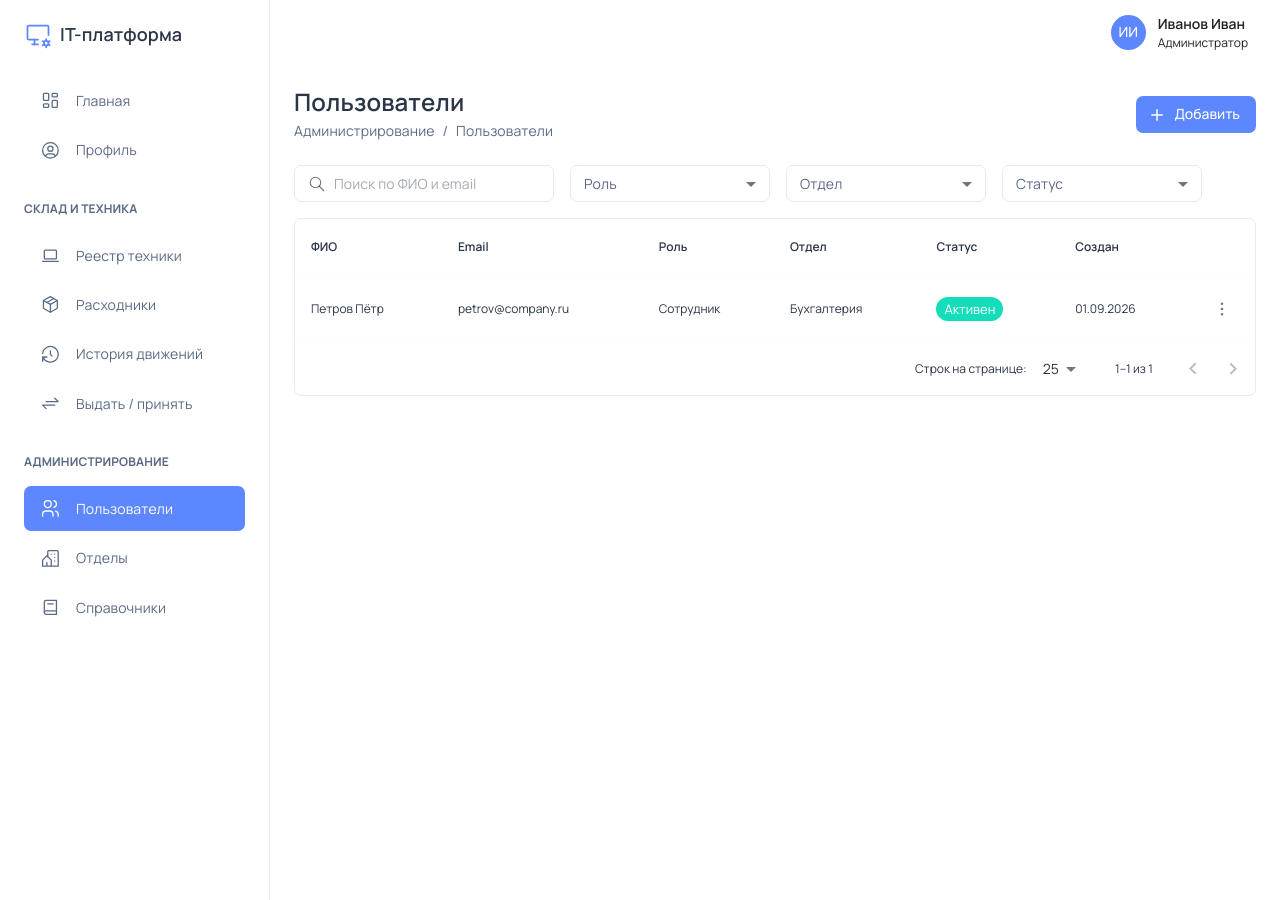
it: редактирование отправляет только изменённые поля
Step 1. Click the button named "Действия" → x=1222, y=310, box [1205,292,1239,326]
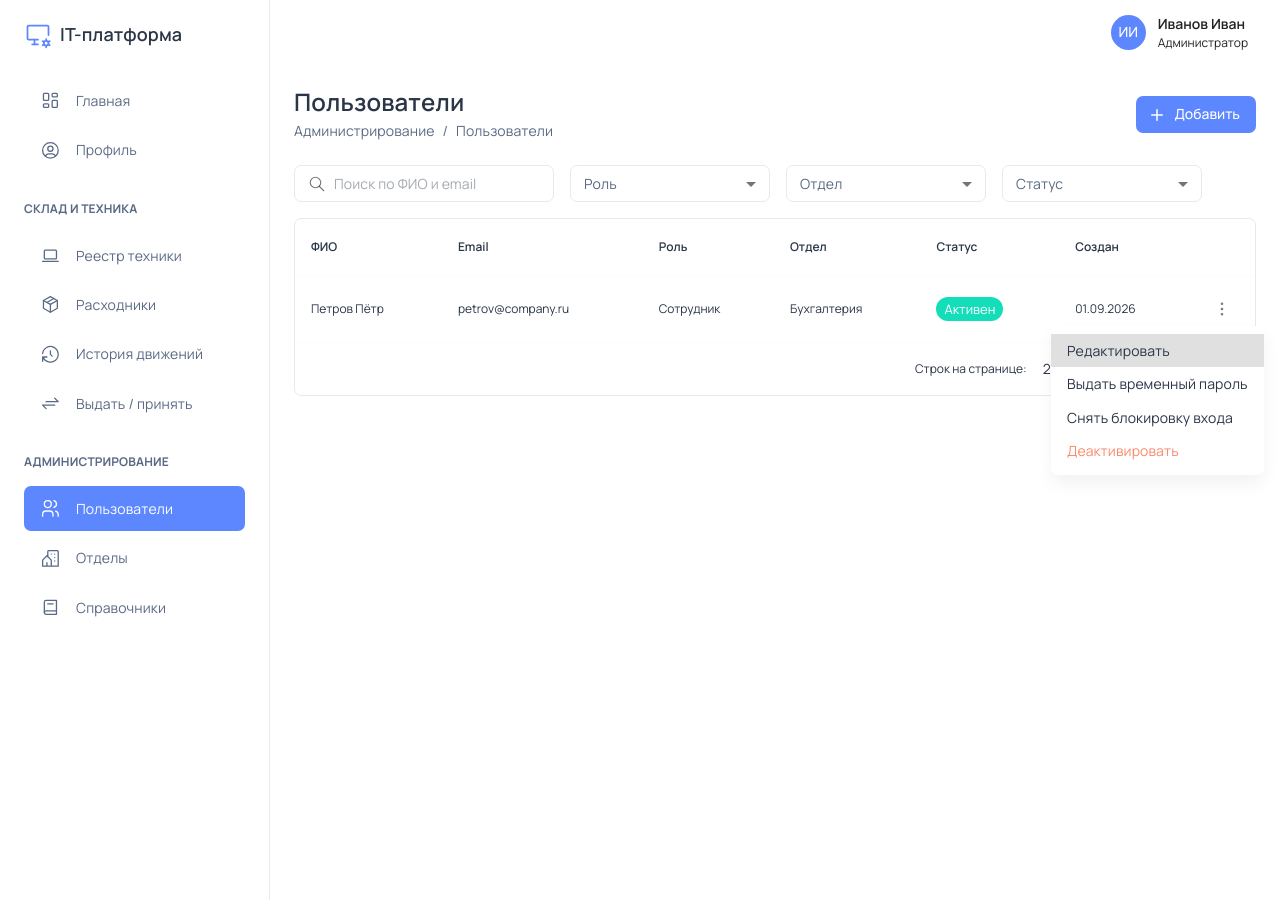
Step 2. Click the menu item "Редактировать" → x=1157, y=351, box [1051,334,1264,367]
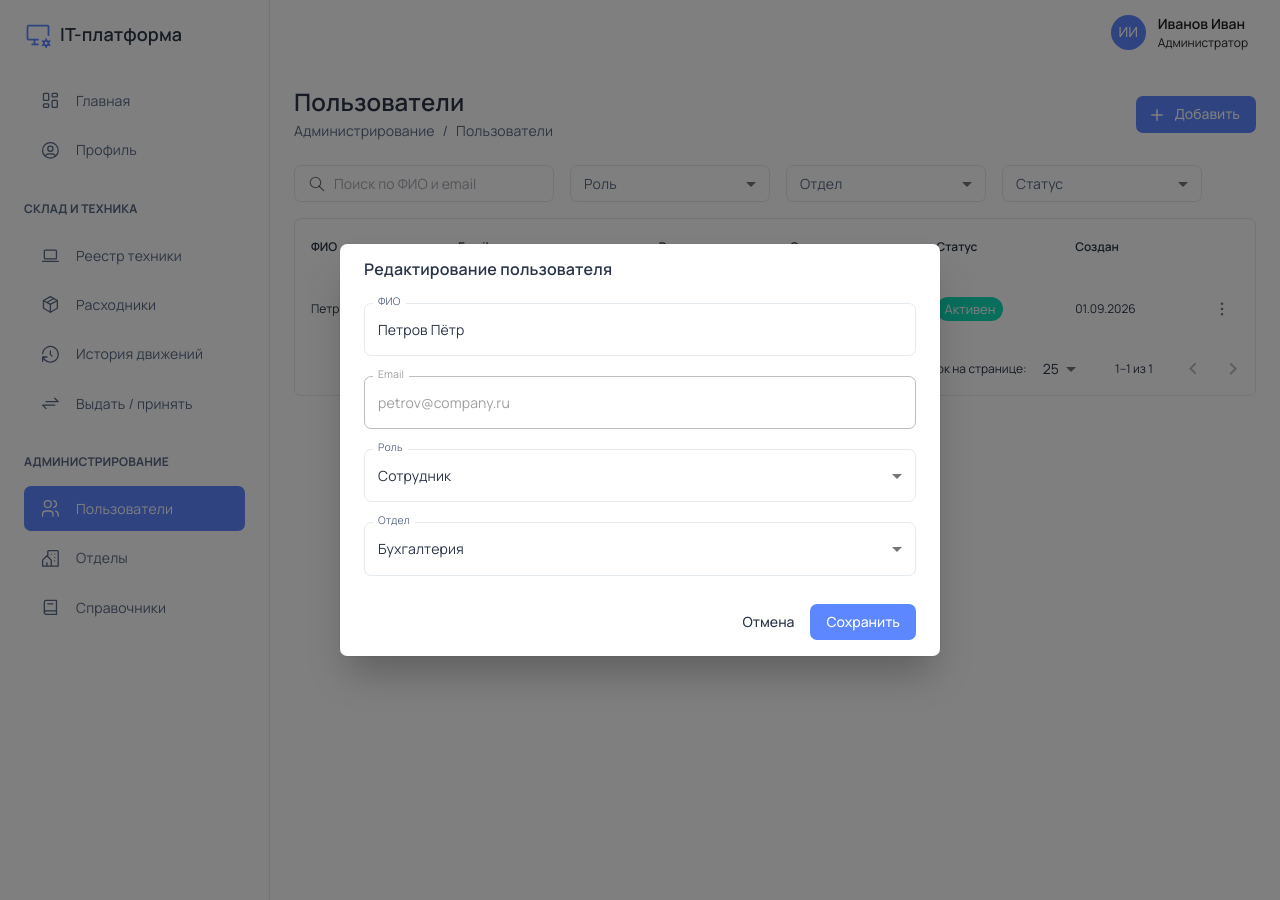
Step 3. Click the dropdown named "Роль" → x=415, y=475, box [378,466,451,485]
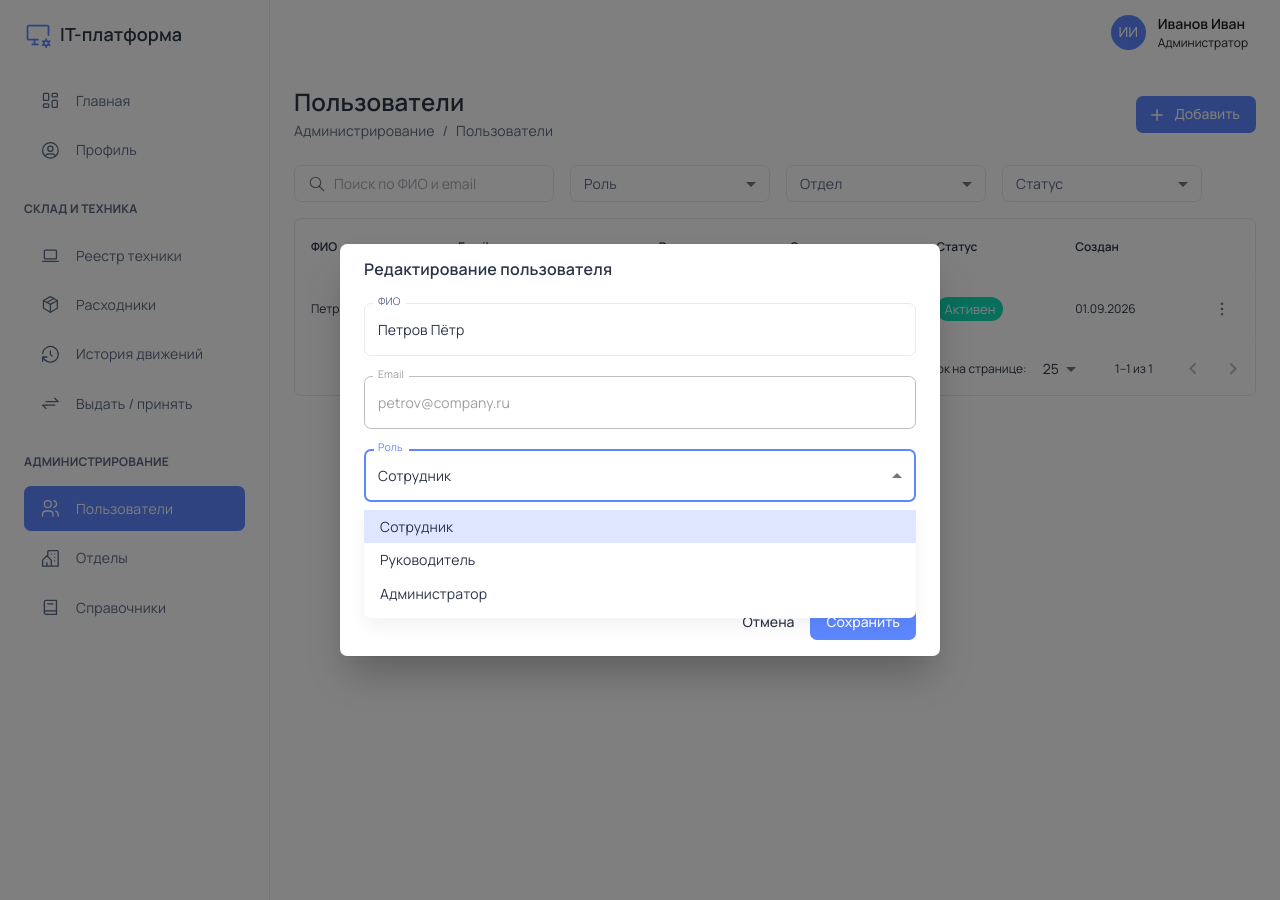
Step 4. Click the option "Руководитель" → x=428, y=560, box [380,550,476,569]
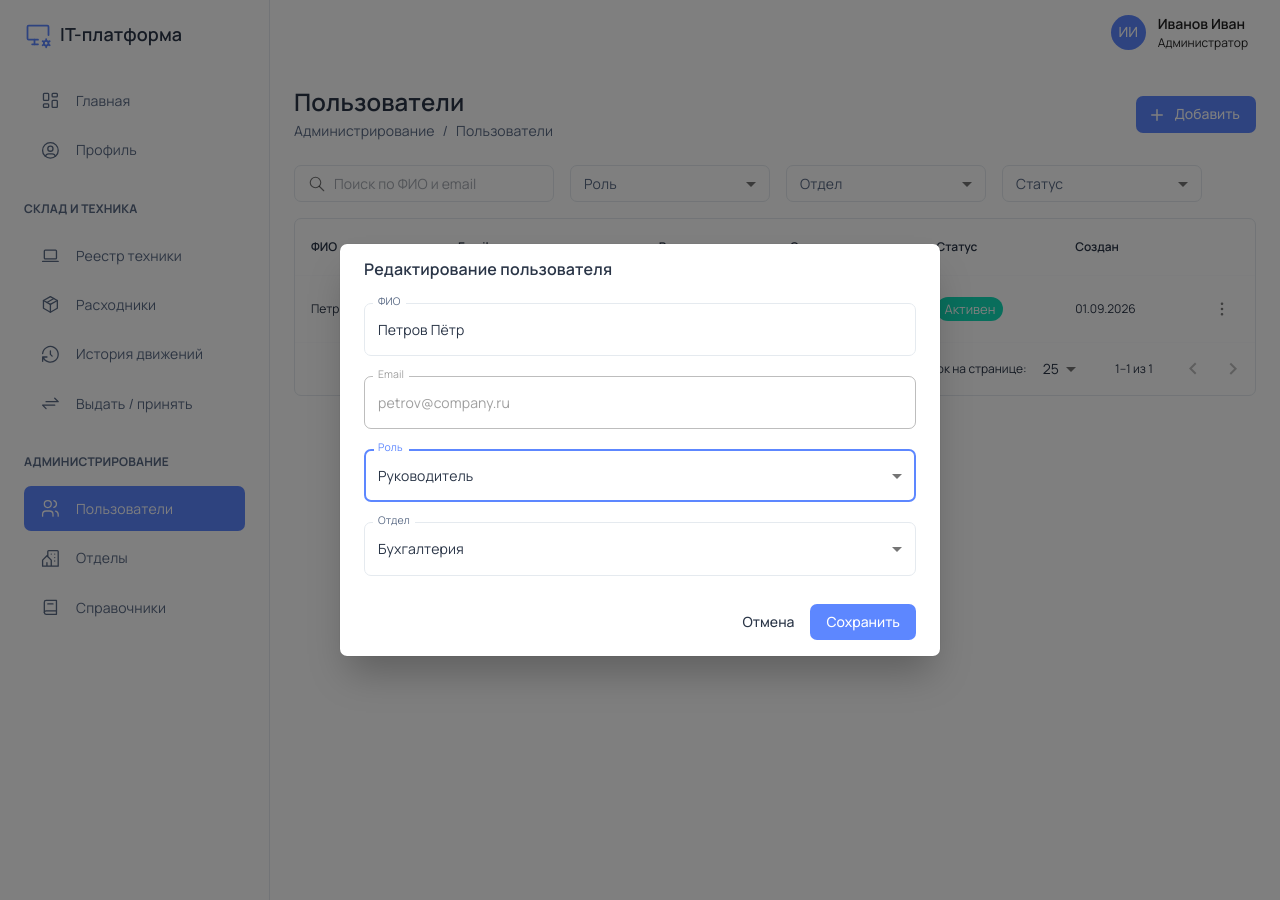
Step 5. Click the button "Сохранить" → x=863, y=622, box [810,604,916,640]
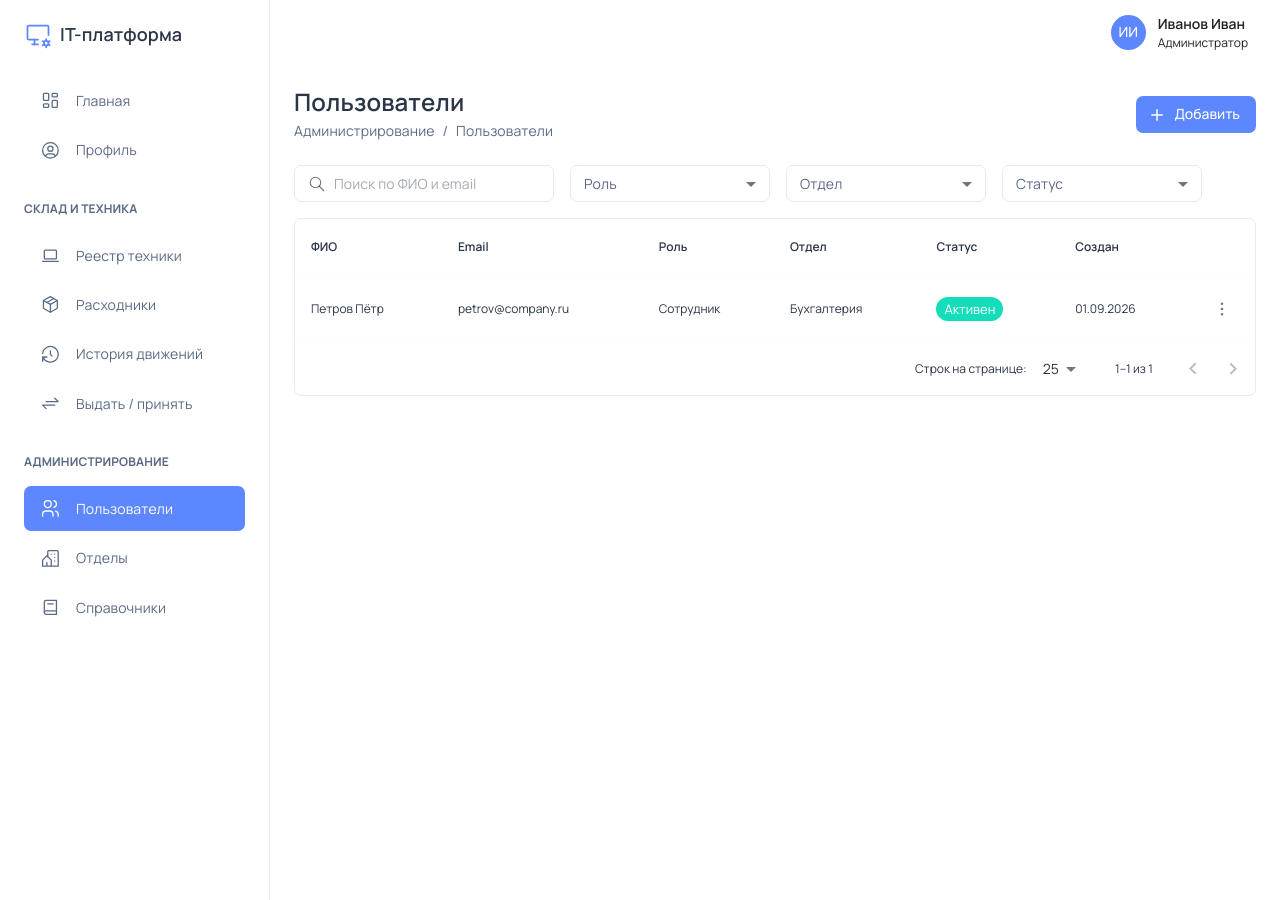
Expected: the dialog is gone
